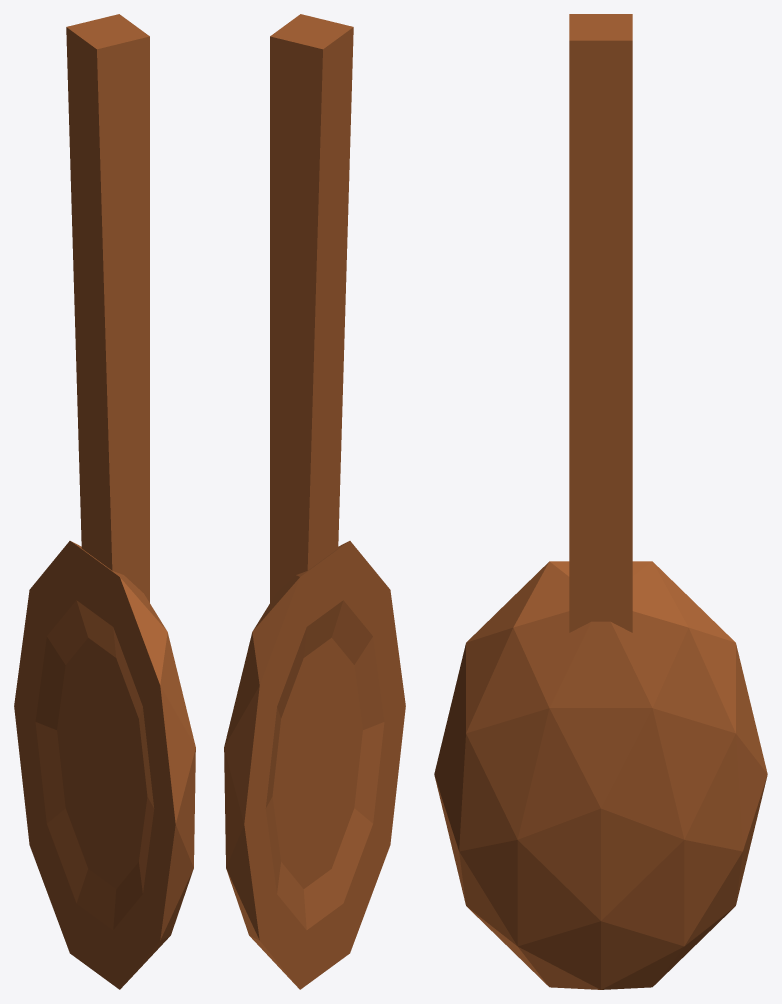
Rendered from spoon.glb.
The picture shows the model from 3 angles, left to right: view 1: azimuth 30°, elevation 25°; view 2: azimuth 150°, elevation 25°; view 3: azimuth 270°, elevation 25°; orthographic projection. The views are drawn at different scales.
Visible parts, largest first — view 1: spoon; view 2: spoon; view 3: spoon.
Boxes of the visible parts, left/top/right/bottom form: spoon: left=14, top=14, right=195, bottom=989; spoon: left=224, top=14, right=405, bottom=989; spoon: left=434, top=14, right=767, bottom=989.
Size of the model in its own units: 0.0794 by 0.8764 by 0.274.
